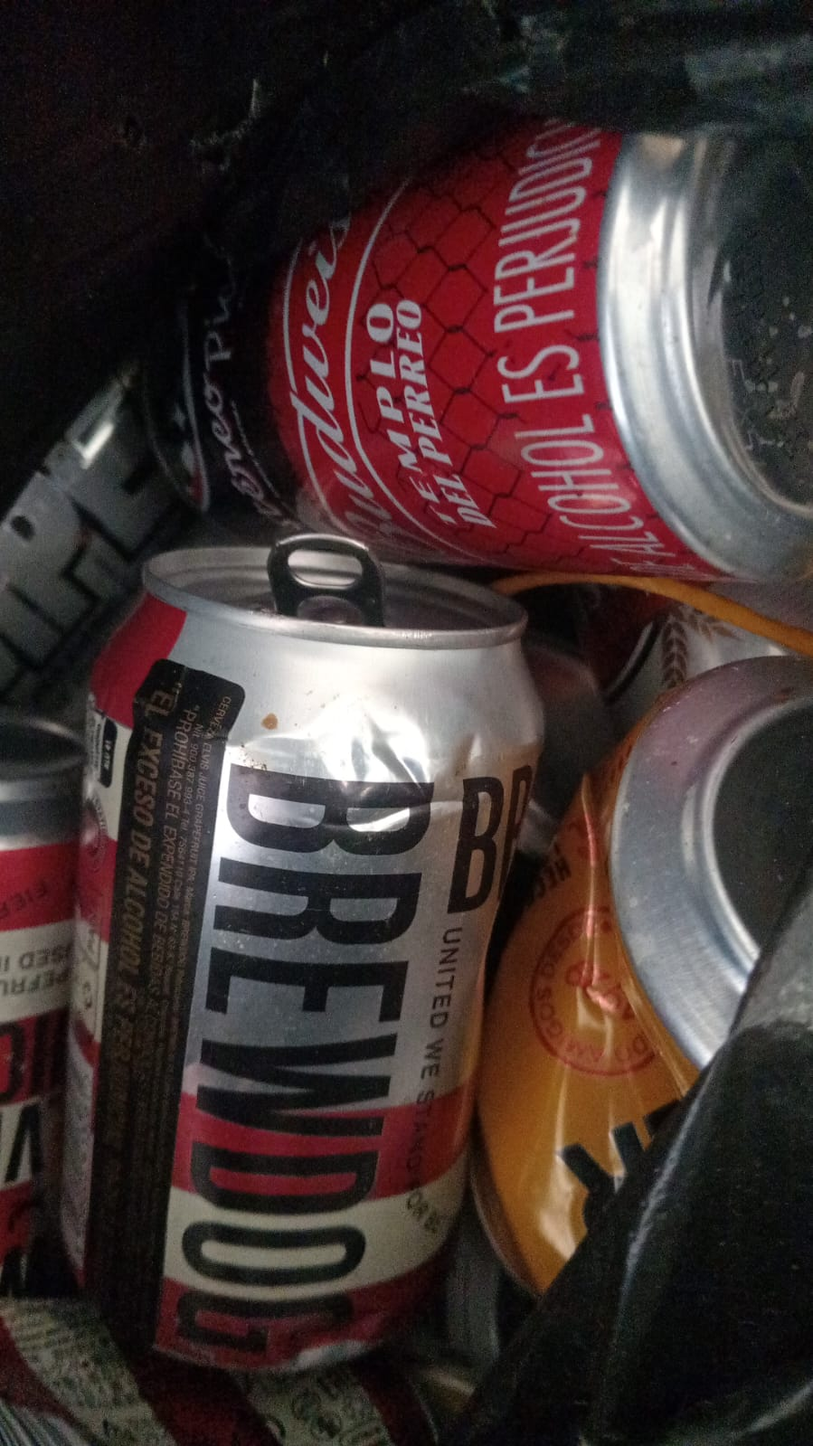Metal: (63, 534, 540, 1385), (121, 123, 803, 579), (502, 649, 813, 1303)
